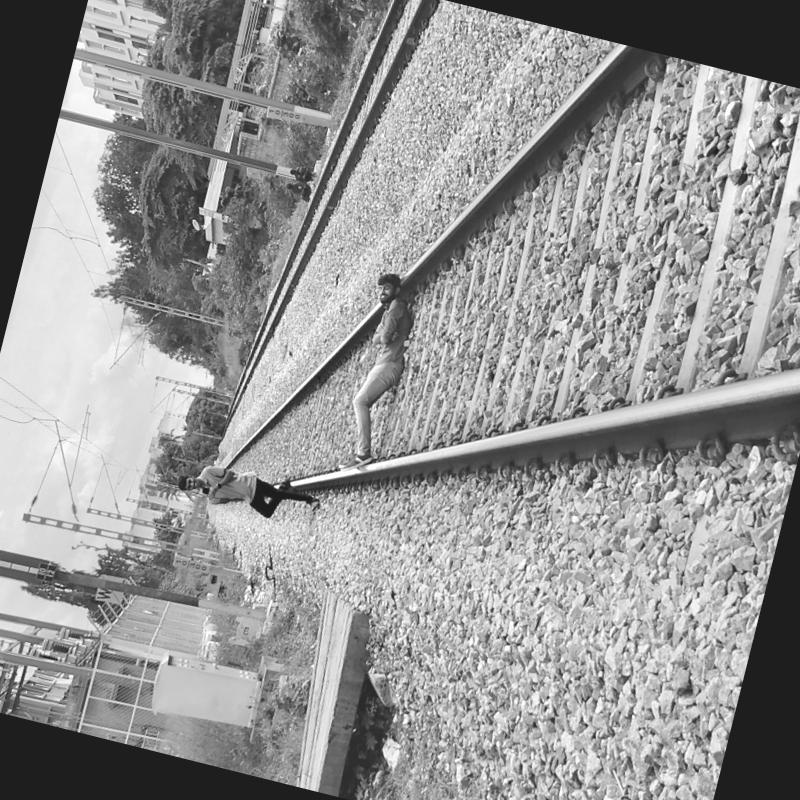sleeping: (326, 243, 432, 482)
